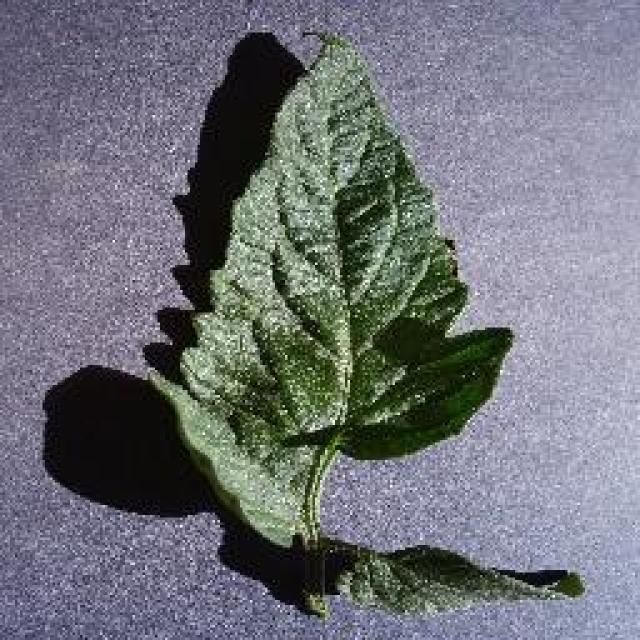Tomato healthy leaf: (172, 34, 502, 561)
